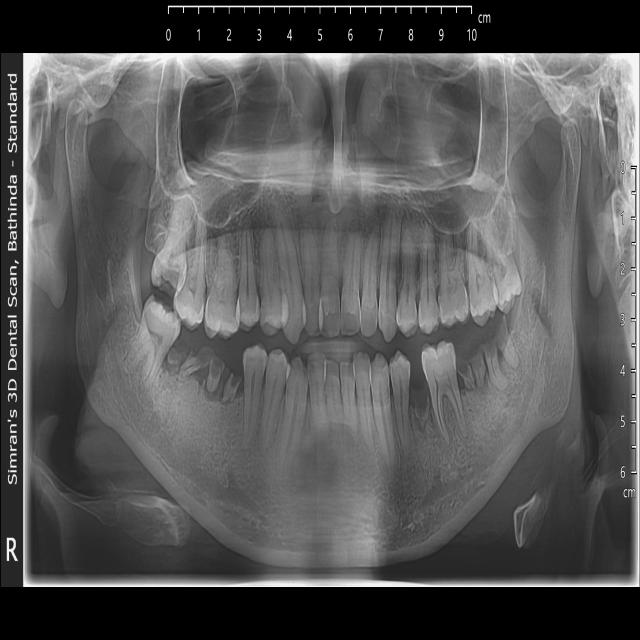Caries: (151, 249, 186, 299), (390, 254, 426, 292), (160, 278, 178, 298)
Missing teeth: (413, 386, 431, 438)
Root Piece: (176, 351, 242, 402), (484, 317, 520, 395), (460, 348, 487, 395)
